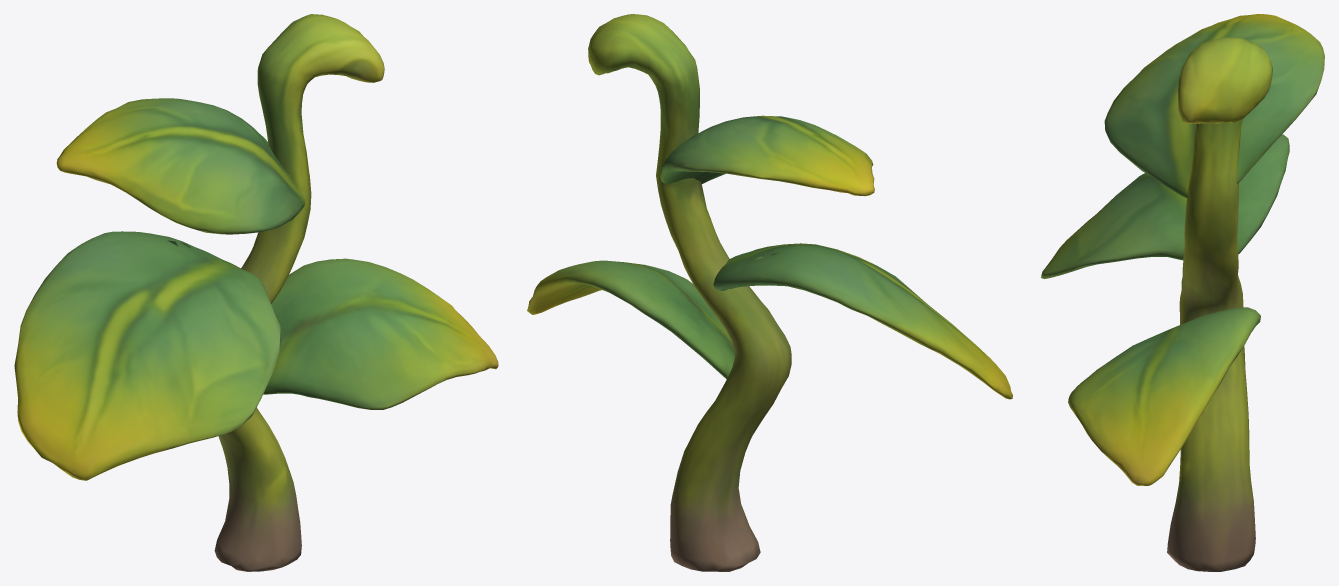
File: brote_vivero.glb
The picture shows the model from 3 angles, left to right: view 1: azimuth 30°, elevation 25°; view 2: azimuth 150°, elevation 25°; view 3: azimuth 270°, elevation 25°; orthographic projection. The views are drawn at different scales.
Visible parts, largest first — view 1: brote_vivero; view 2: brote_vivero; view 3: brote_vivero.
Boxes of the visible parts, bbox=[...] form: brote_vivero: bbox=[14, 14, 498, 571]; brote_vivero: bbox=[527, 14, 1012, 571]; brote_vivero: bbox=[1041, 14, 1324, 571].
Bounding box in the file's own units: 0.2543 × 0.2673 × 0.1251.
Materials: 1 (1 with a texture image).
